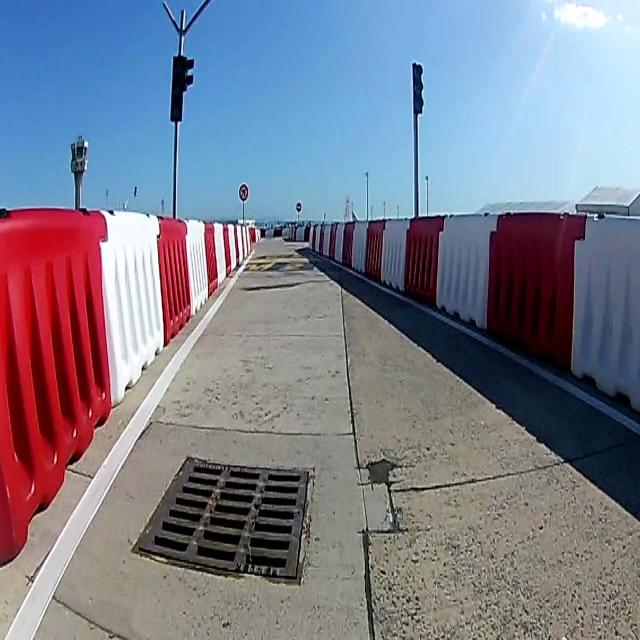soladonulmez: (239, 182, 249, 203)
